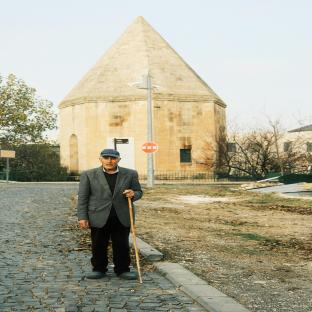Human: (77, 149, 142, 280)
